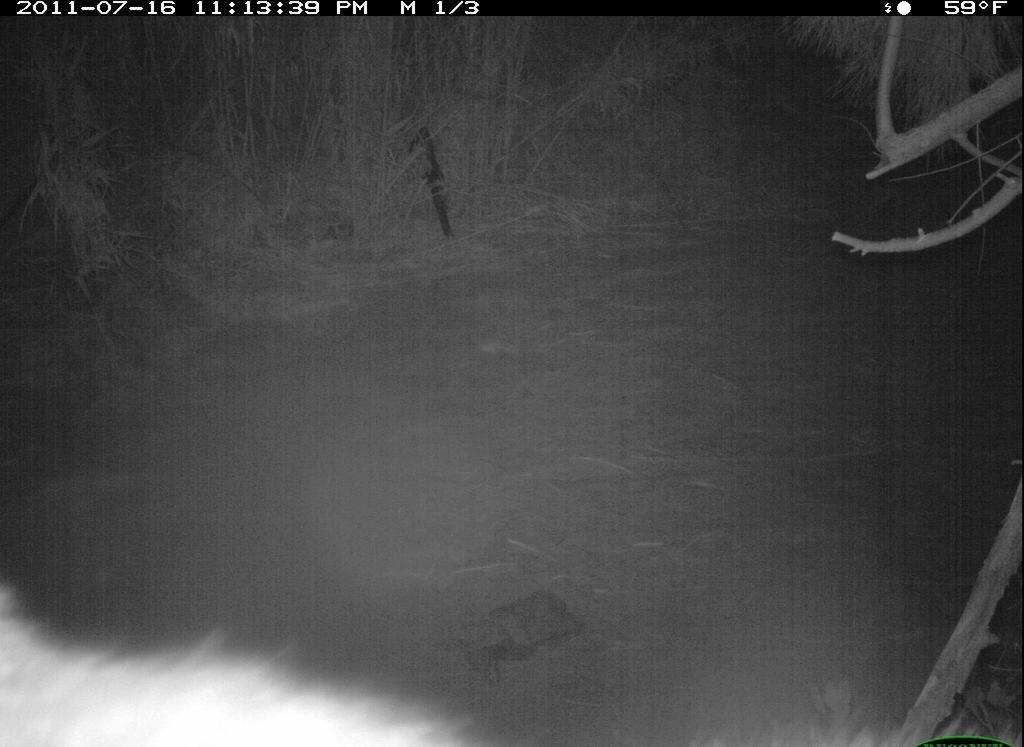raccoon: (3, 569, 504, 747)
